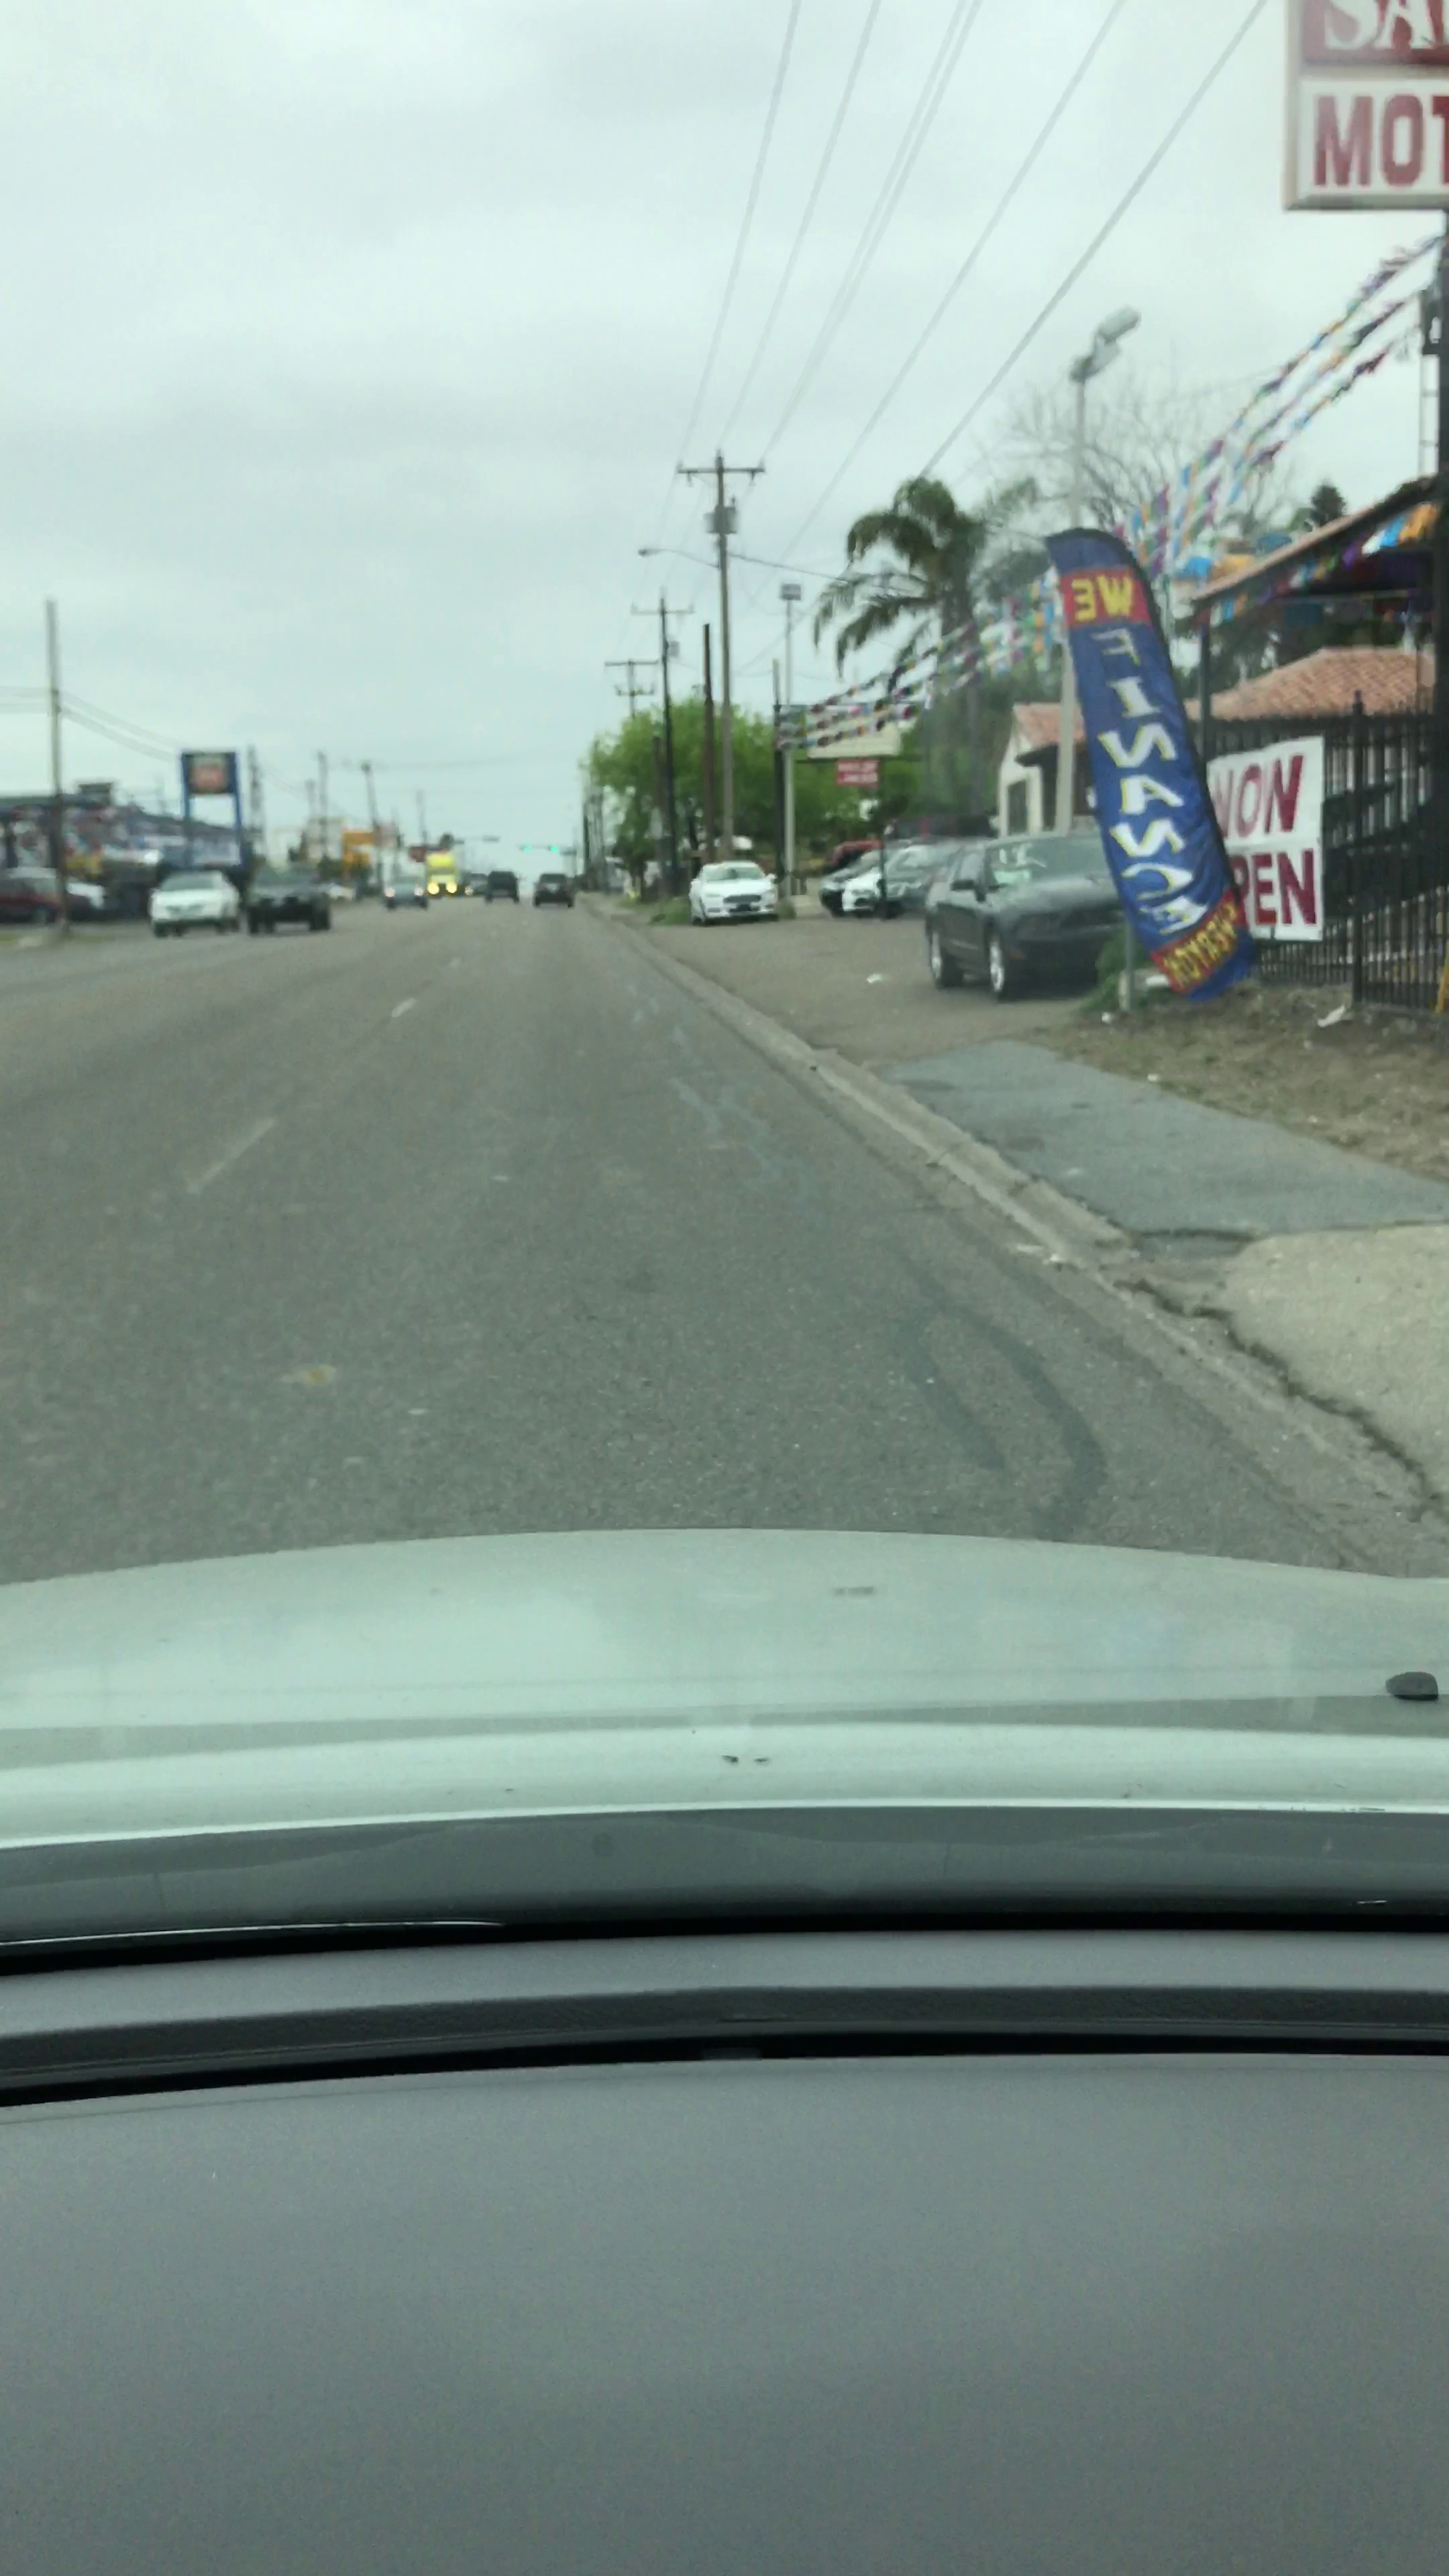blurredLine: (145, 1077, 297, 1228)
pothole: (1102, 1191, 1279, 1290)
